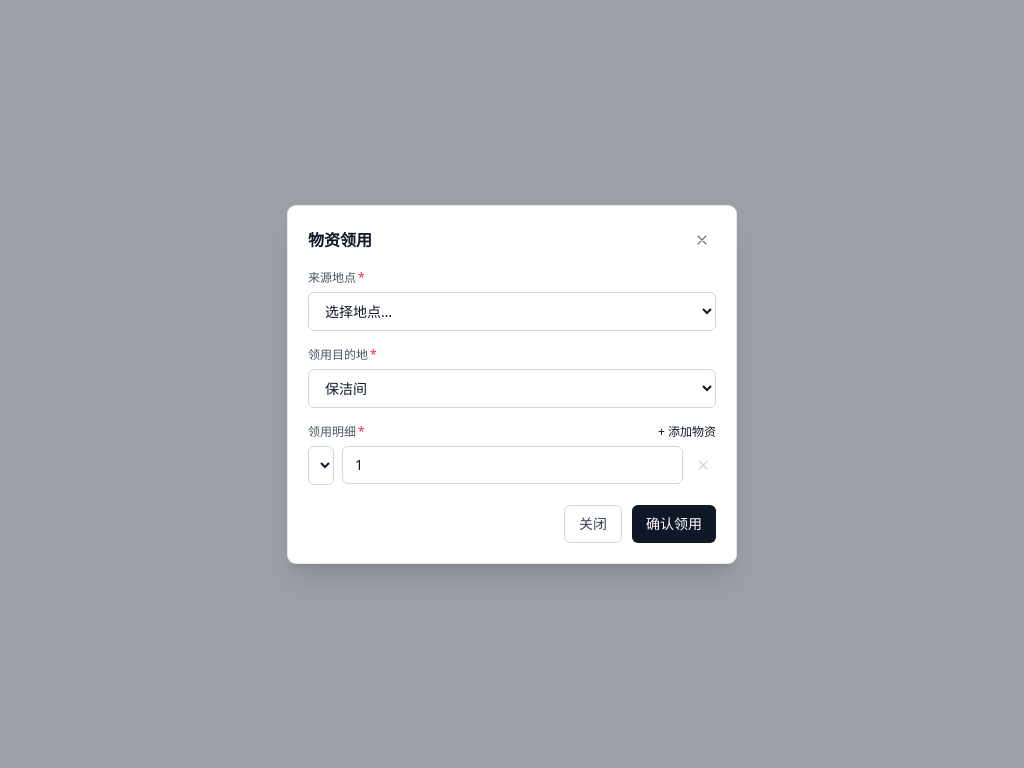
it: IssueForm 领用表单（Sprint 7 §11/§12/§54） › 库存不足 409：detail 原文展示（后端最终权威）
Select "总仓" in the dropdown named "领用来源地点" at [512, 311], box [308,292,716,330]
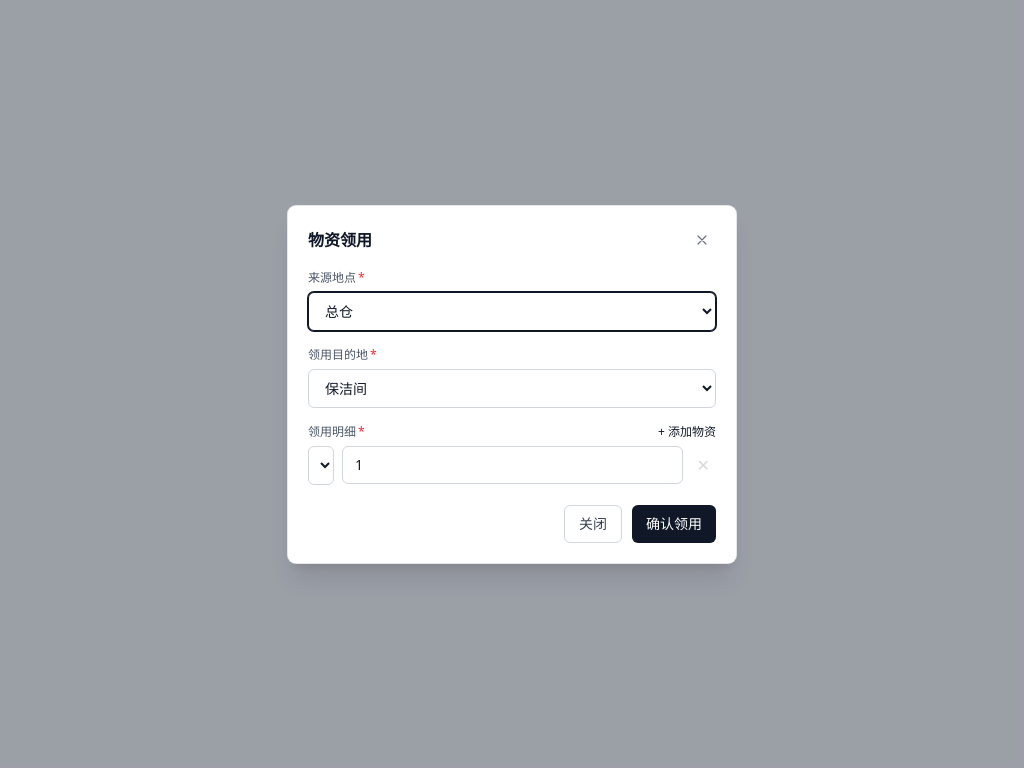
Select "AMEN-WATER-500 · 矿泉水（现 10瓶）" in the dropdown named "领用物资" at [321, 465], box [308,446,334,484]
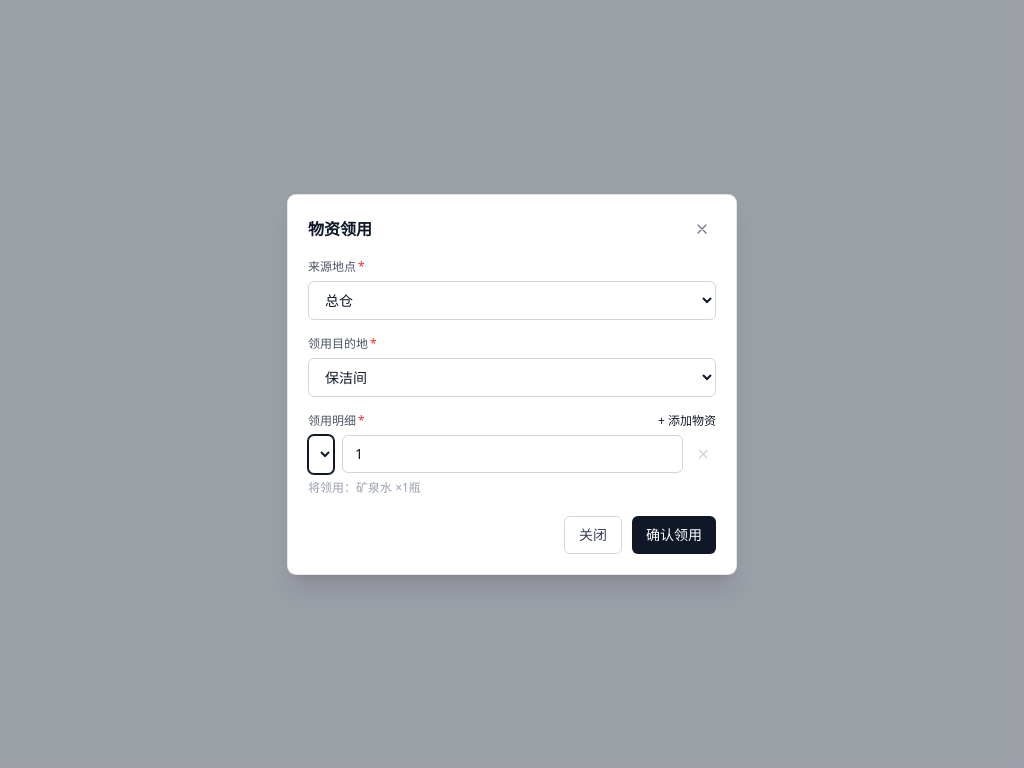
Clear the number field named "领用数量" at [512, 454], box [342,435,683,473]
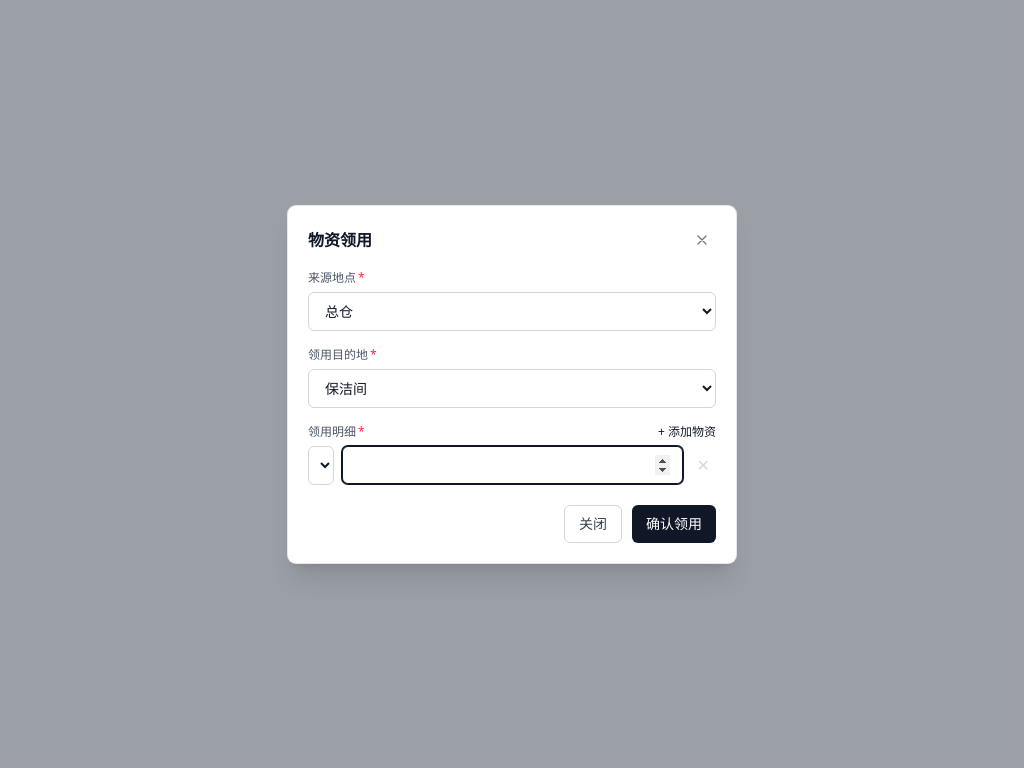
Type "12" into the number field named "领用数量" at [512, 465], box [342,446,683,484]
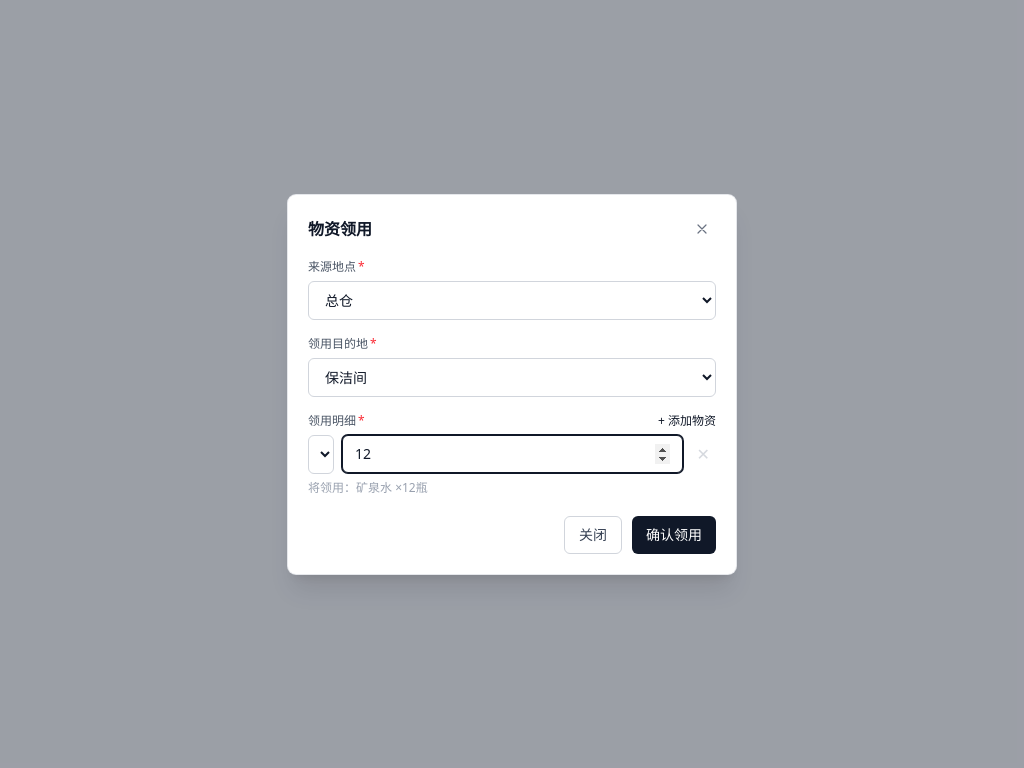
Click the button "确认领用" at [674, 534], box [632,516,716,554]
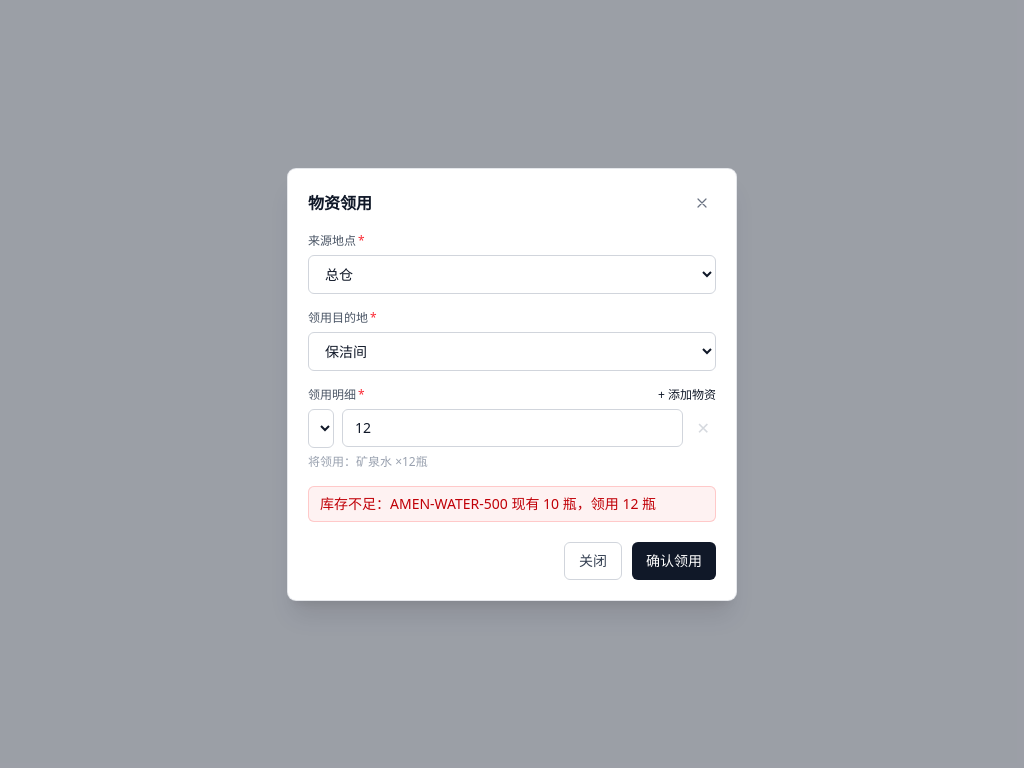
Expected: the message reads "库存不足：AMEN-WATER-500 现有 10 瓶，领用 12 瓶", [320,494,656,512]
